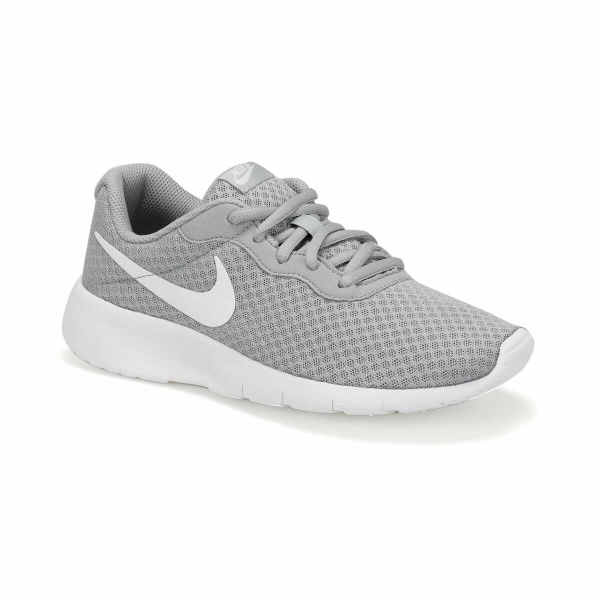nike: (94, 232, 249, 334)
